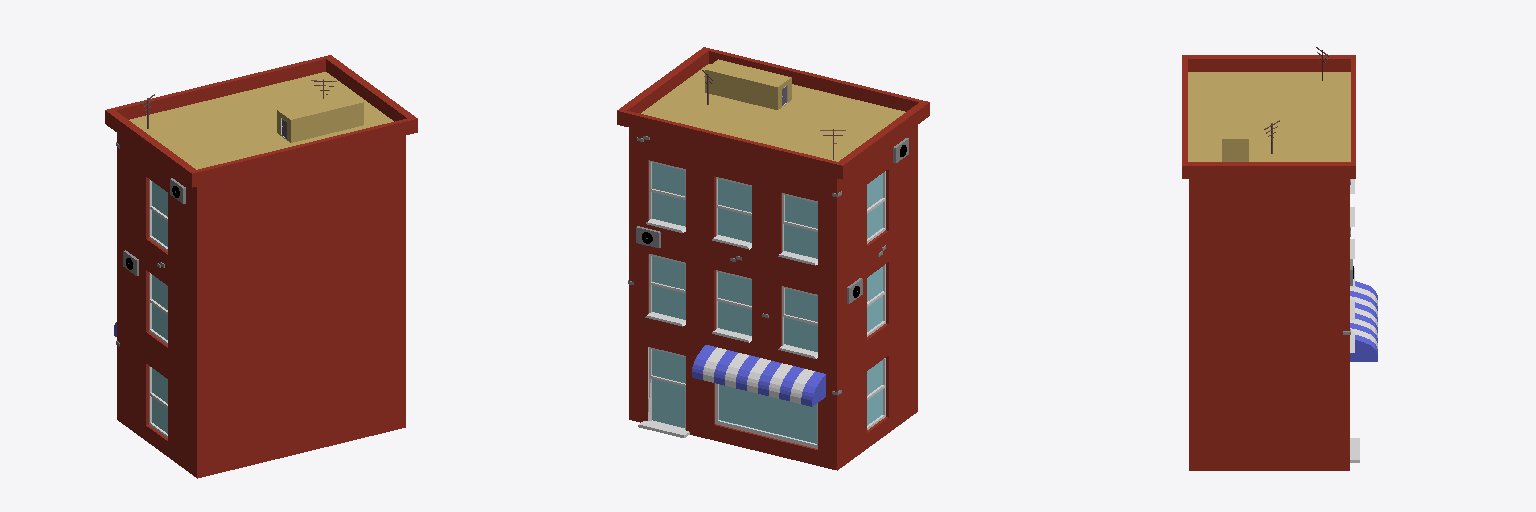
3 renders of one model, left to right at view 1: azimuth 30°, elevation 25°; view 2: azimuth 150°, elevation 25°; view 3: azimuth 270°, elevation 25°, orthographic.
Visible parts, largest first — view 1: house; view 2: house; view 3: house.
Part boxes in pixels (left/top/right/bottom): house: left=105, top=55, right=417, bottom=478; house: left=617, top=47, right=929, bottom=470; house: left=1182, top=47, right=1377, bottom=470.
Bounding box in the file's own units: 429 × 594 × 322.
Materials: 1 (1 with a texture image).